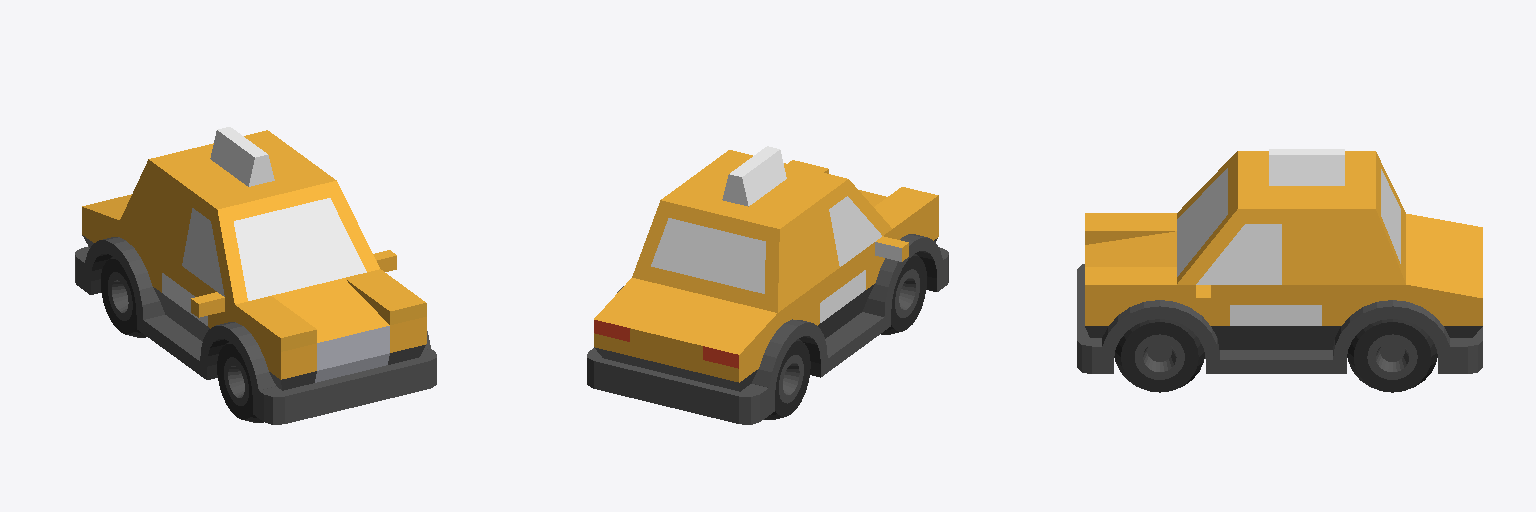
Rendered from taxi.obj.
The picture shows the model from 3 angles: view 1: azimuth 30°, elevation 25°; view 2: azimuth 150°, elevation 25°; view 3: azimuth 270°, elevation 25°; orthographic projection.
Visible parts, largest first — view 1: body, wheel_backRight, wheel_frontRight; view 2: body, wheel_frontRight, wheel_backRight; view 3: body, wheel_backLeft, wheel_frontLeft.
Part boxes in pixels (left/top/right/bottom): body: left=75, top=127, right=436, bottom=424; wheel_backRight: left=101, top=256, right=146, bottom=337; wheel_frontRight: left=217, top=342, right=263, bottom=422; body: left=587, top=146, right=948, bottom=424; wheel_frontRight: left=881, top=254, right=926, bottom=334; wheel_backRight: left=764, top=339, right=810, bottom=419; body: left=1077, top=149, right=1482, bottom=373; wheel_backLeft: left=1347, top=319, right=1437, bottom=392; wheel_frontLeft: left=1115, top=319, right=1204, bottom=392.
Size of the model in its own units: 1.5 by 1.5 by 2.65.